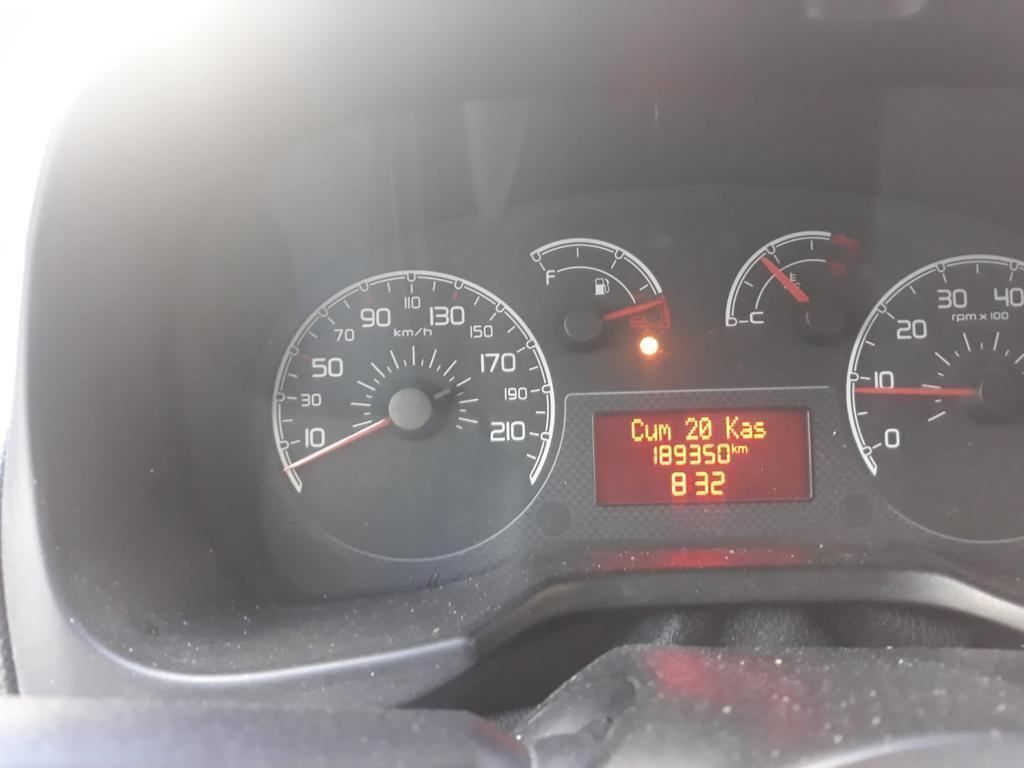0: (698, 415, 712, 441), (717, 442, 731, 464)
1: (652, 445, 658, 465)
2: (709, 470, 725, 496), (684, 416, 698, 440)
3: (693, 471, 708, 496), (688, 444, 702, 465)
5: (702, 443, 716, 464)
8: (670, 470, 687, 496), (658, 444, 672, 465)
9: (672, 443, 687, 465)
X: (725, 414, 740, 439), (630, 417, 644, 443), (656, 423, 672, 442), (752, 420, 767, 439), (644, 422, 657, 442), (739, 421, 753, 438), (736, 444, 748, 454), (731, 443, 737, 454)
odometer: (591, 406, 815, 505)
